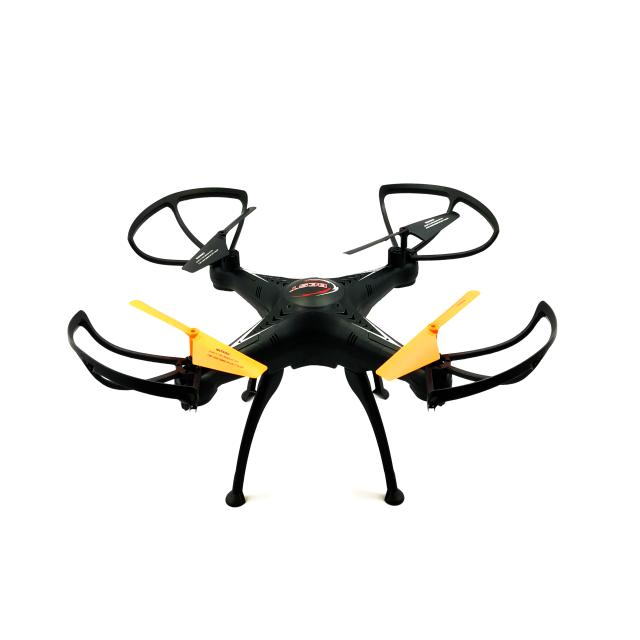drone: (56, 170, 572, 491)
